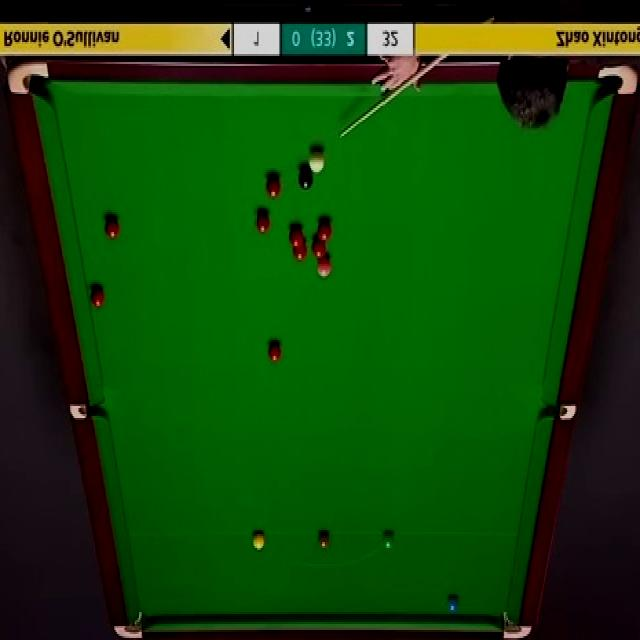black-ball: (296, 164, 314, 193)
blue-ball: (445, 593, 461, 618)
brown-ball: (317, 529, 331, 549)
green-ball: (382, 528, 396, 550)
pink-ball: (314, 255, 332, 279)
red-ball: (265, 174, 283, 199), (104, 213, 120, 241), (267, 340, 283, 364), (288, 224, 304, 247), (256, 209, 270, 235), (89, 285, 104, 309), (291, 240, 308, 261), (317, 220, 332, 242), (311, 238, 327, 258)
white-ball: (308, 145, 326, 174)
yellow-ball: (252, 530, 266, 550)
